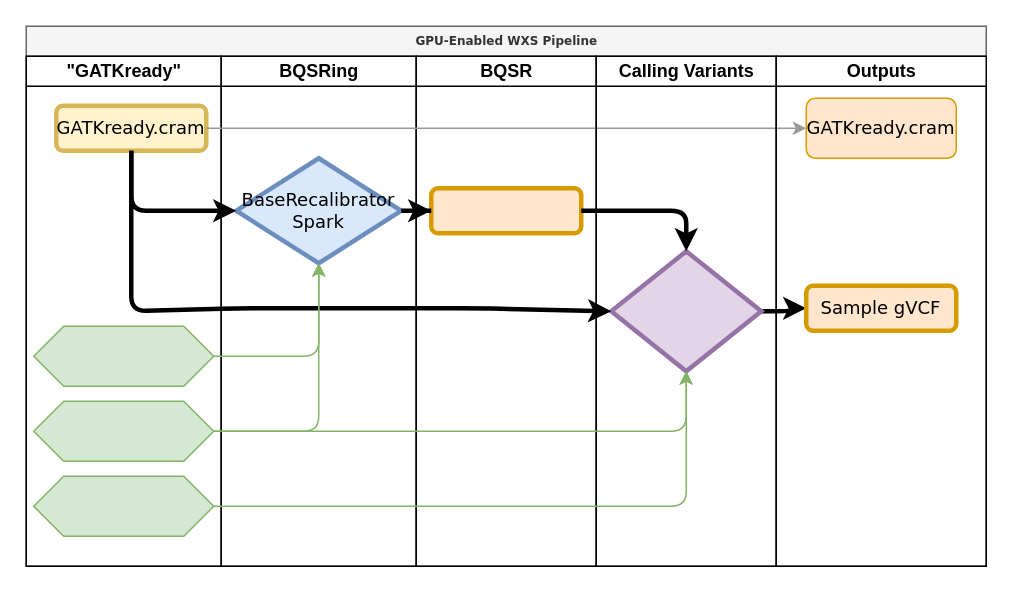
This 1013x593 diagram has some shape labels left out. Here are the shapes that lost their labels. From the top down, the centre of each, then its label:
At pixel 505 210: "BQSR Report".
At pixel 685 310: "pbrun HaplotypeCaller".
At pixel 123 355: "Known Sites".
At pixel 123 430: "Reference FASTA".
At pixel 123 505: "Intervals File".
